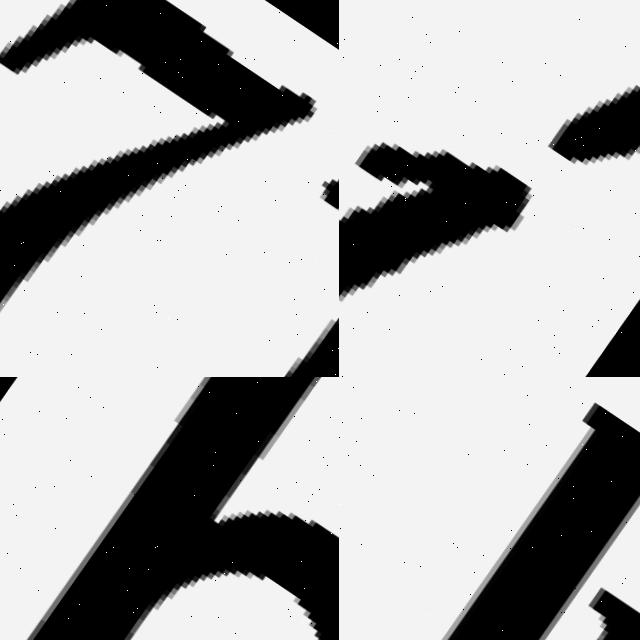B: (35, 377, 339, 640)
J: (339, 0, 640, 377)
K: (339, 386, 640, 640)
V: (0, 0, 339, 377)
